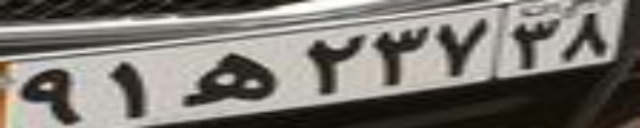1: (108, 60, 149, 117)
2: (306, 35, 364, 95)
3: (376, 26, 429, 87), (512, 18, 562, 70)
7: (437, 17, 488, 78)
8: (563, 9, 607, 60)
9: (19, 68, 80, 124)
he: (177, 51, 280, 107)
